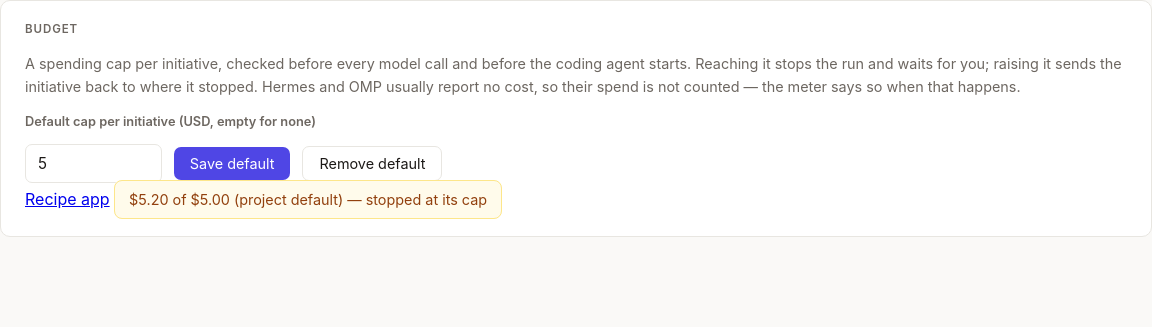
Scenario: BudgetSettings › Remove default sends 0, and a refused write is shown
The image size is (1152, 327).
Click the button "Remove default". click: (372, 164)
box: [302,146,442,181]
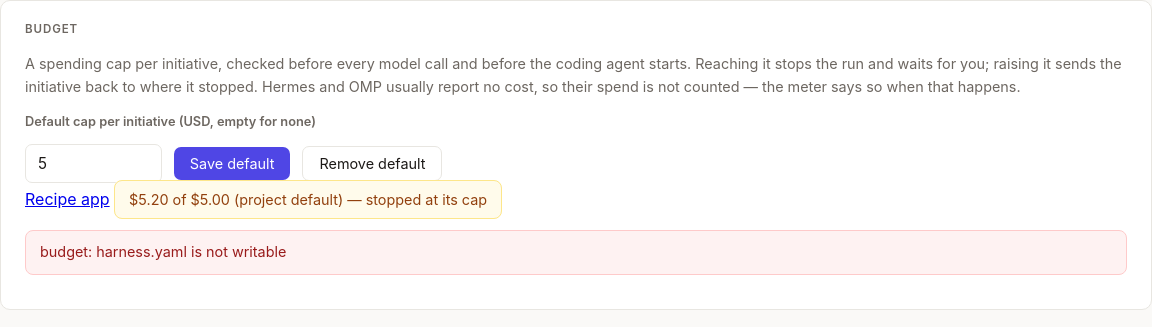
Expected: the text "budget: harness.yaml is not writable" is shown, [25,230,1127,275]
